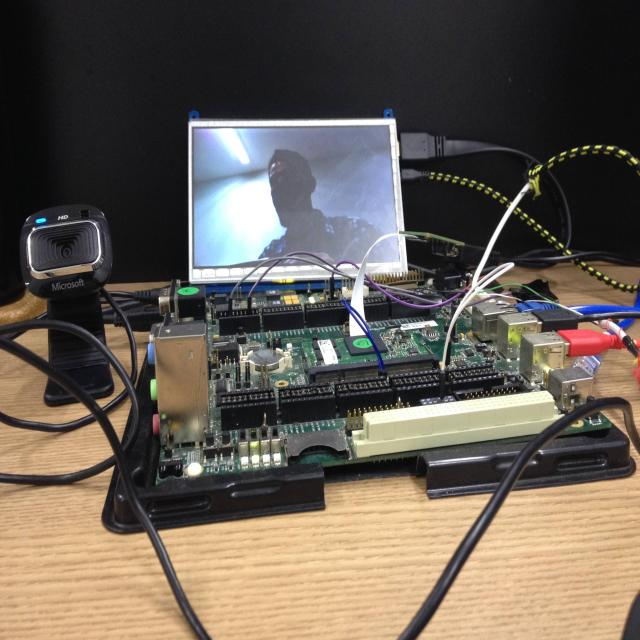som: (298, 324, 435, 366)
